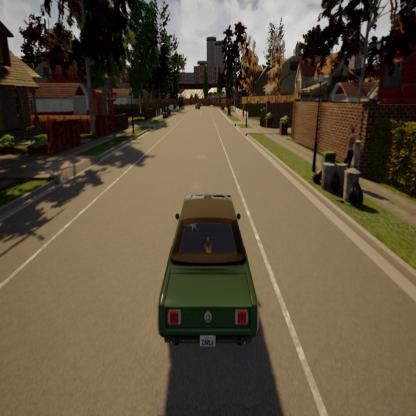Cars: (146, 165, 267, 366), (193, 97, 202, 114)
Pedestrian: (343, 122, 358, 180), (241, 104, 247, 122)
